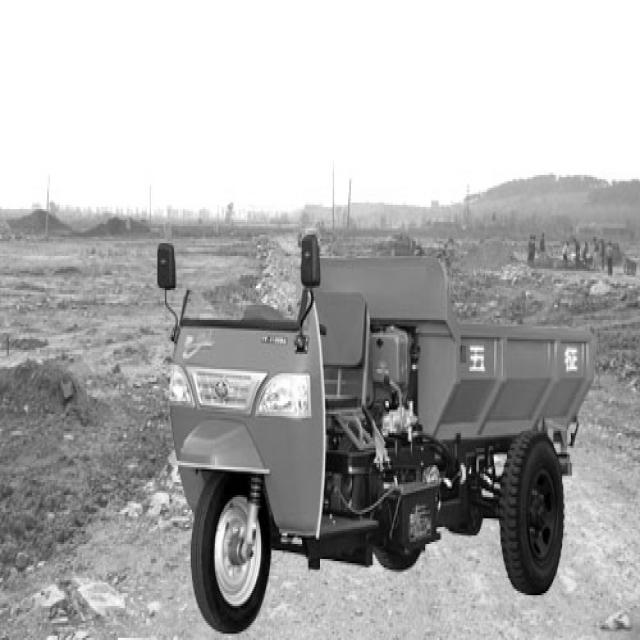tricycle: (149, 230, 595, 632)
